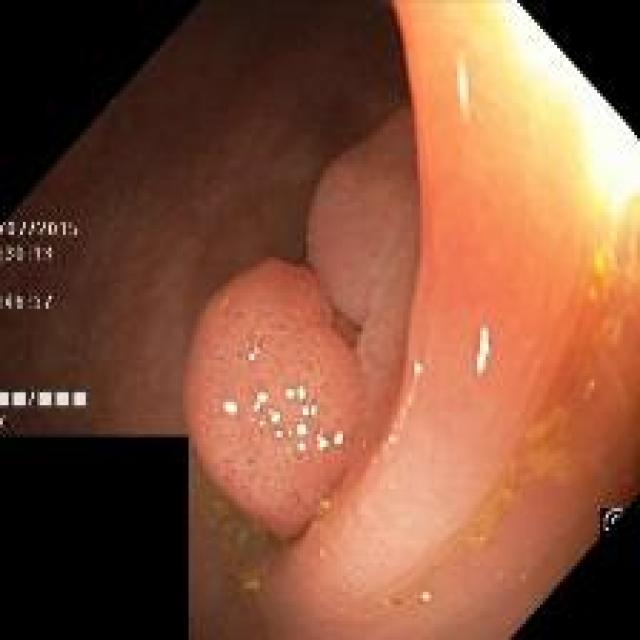Polyps: (185, 260, 368, 541), (306, 107, 419, 381)
